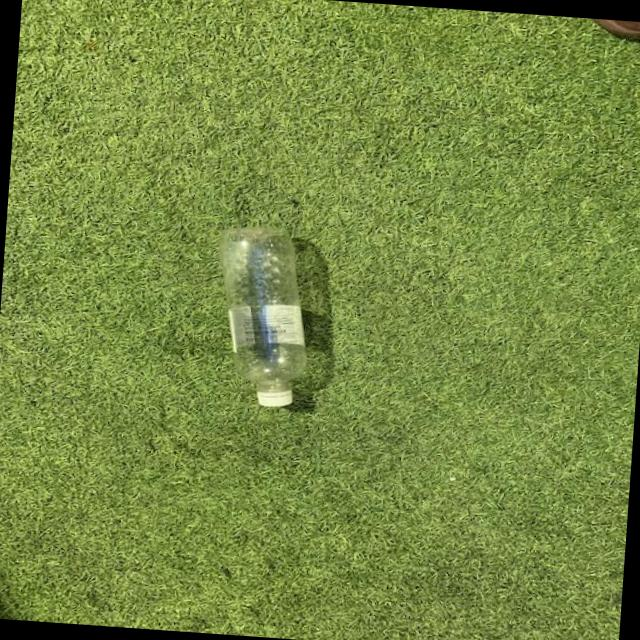plastic_bottle: (208, 224, 316, 408)
